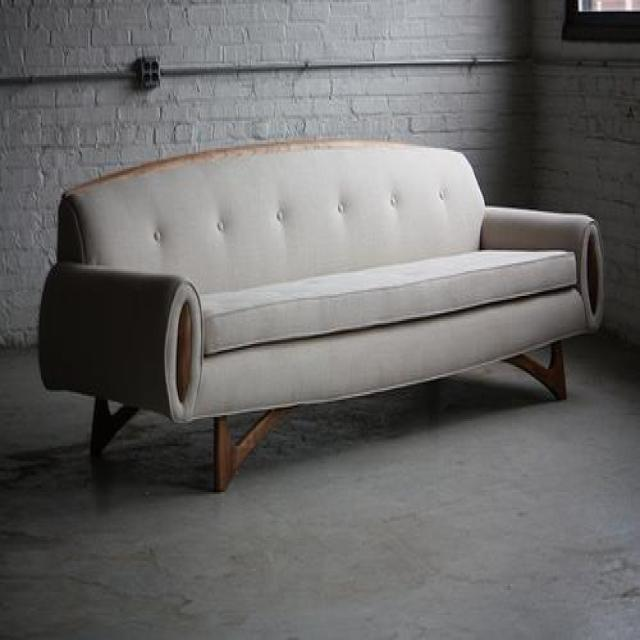sofa: (37, 135, 604, 492)
